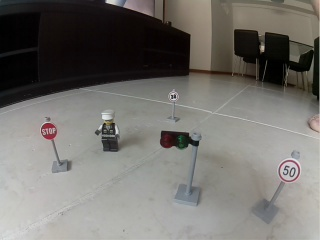Green Traffic Light: (160, 129, 202, 206)
Person: (94, 110, 121, 154)
Speed Limit 30: (168, 90, 178, 102)
Speed Limit 50: (278, 158, 300, 182)
Stop Sign: (40, 123, 58, 141)
